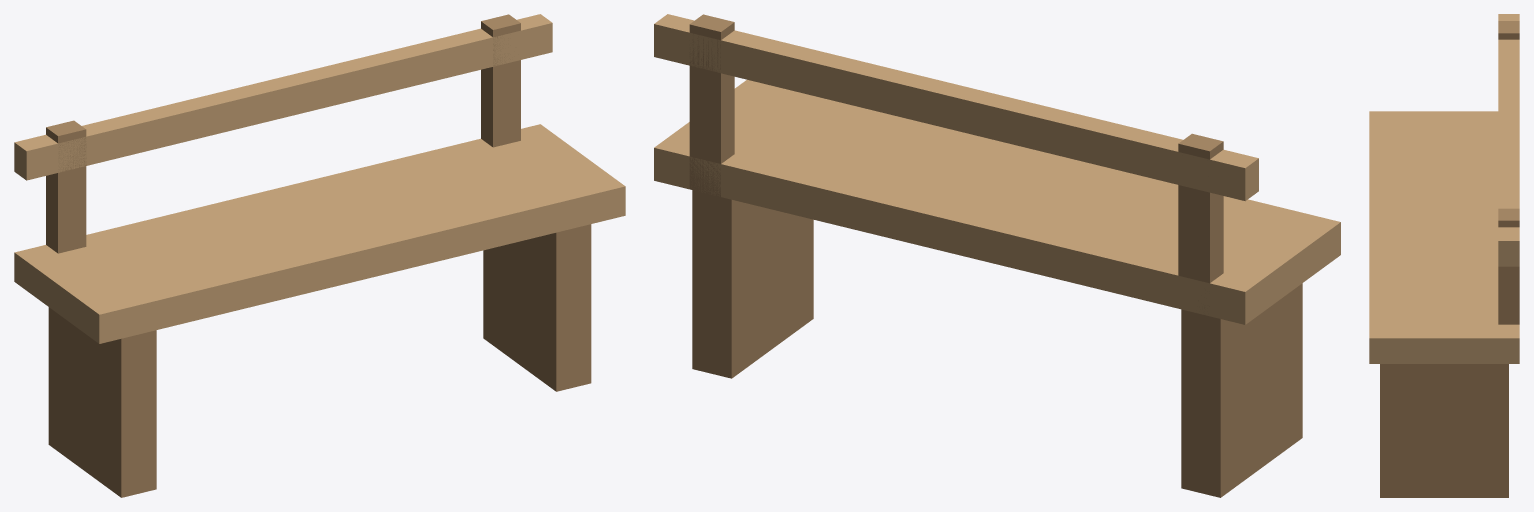
Rendered from bench.glb.
The picture shows the model from 3 angles, left to right: view 1: azimuth 30°, elevation 25°; view 2: azimuth 150°, elevation 25°; view 3: azimuth 270°, elevation 25°; orthographic projection. The views are drawn at different scales.
Visible parts, largest first — view 1: Player; view 2: Player; view 3: Player.
Boxes of the visible parts, x1=… form: Player: x1=14, y1=14, x2=625, y2=497; Player: x1=654, y1=14, x2=1340, y2=497; Player: x1=1369, y1=14, x2=1519, y2=497.
Bounding box in the file's own units: 1.5 × 0.85 × 0.42.
